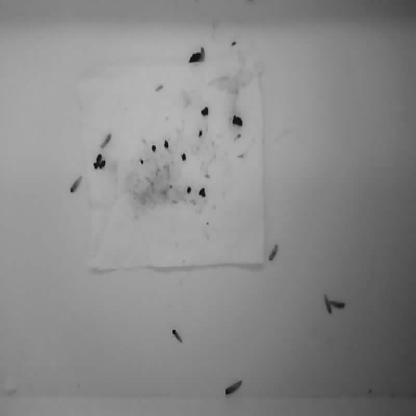PtecticusTenebrifer: (226, 378, 244, 399), (68, 175, 83, 194), (98, 132, 112, 149), (171, 330, 184, 346), (323, 296, 333, 315), (269, 244, 278, 264), (329, 300, 347, 310)
